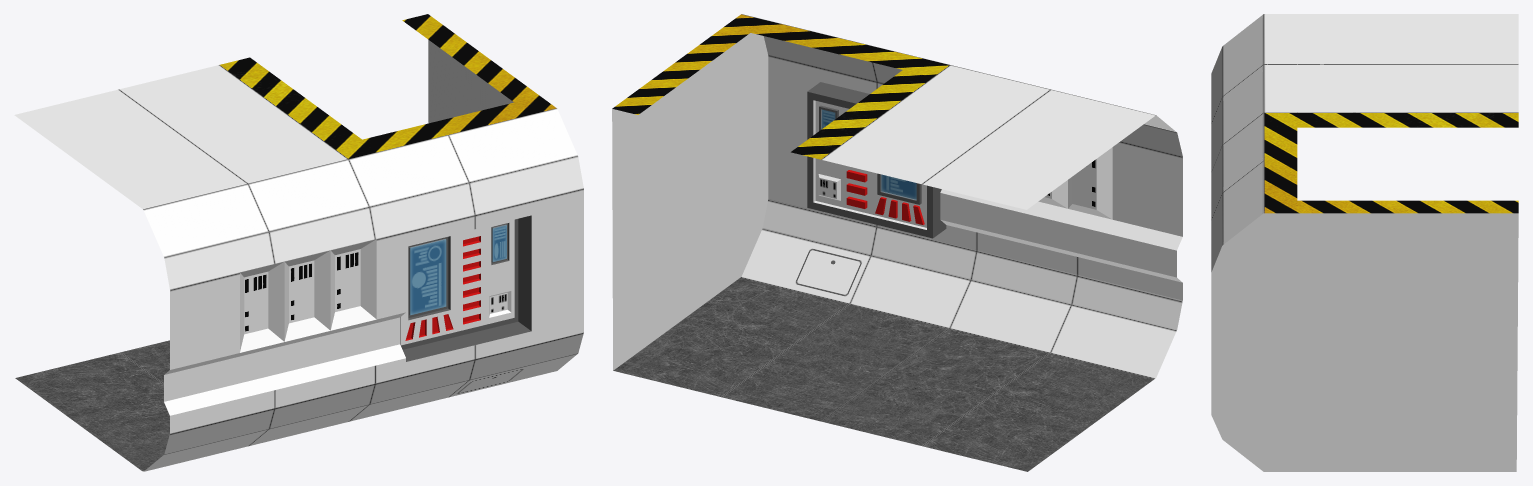
The model's file is Wall_1_Half_Ceiling_Missing.FBX.
3 views of the same model, side by side, from view 1: azimuth 30°, elevation 25°; view 2: azimuth 150°, elevation 25°; view 3: azimuth 270°, elevation 25° (orthographic).
Visible parts, largest first — view 1: Plane071; view 2: Plane071; view 3: Plane071.
Part boxes in pixels (left/top/right/bottom): Plane071: left=14, top=14, right=583, bottom=471; Plane071: left=612, top=14, right=1182, bottom=471; Plane071: left=1211, top=14, right=1518, bottom=471.
Size of the model in its own units: 134 by 81.2 by 87.42.
